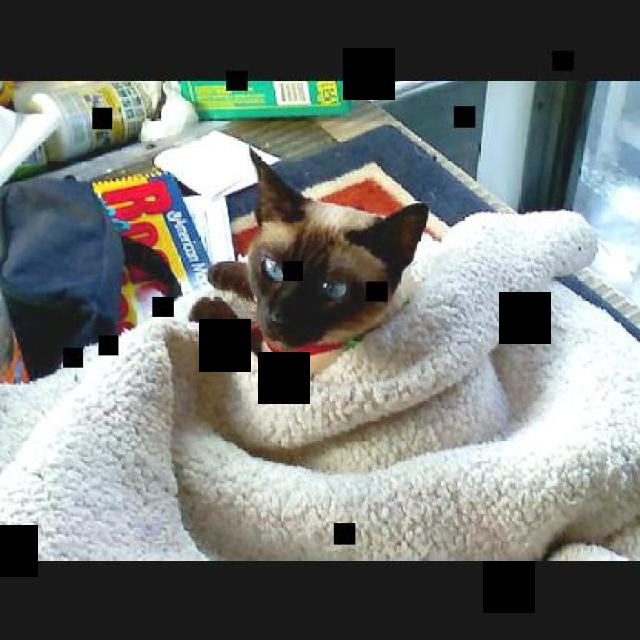unauthorized: (188, 144, 432, 378)
